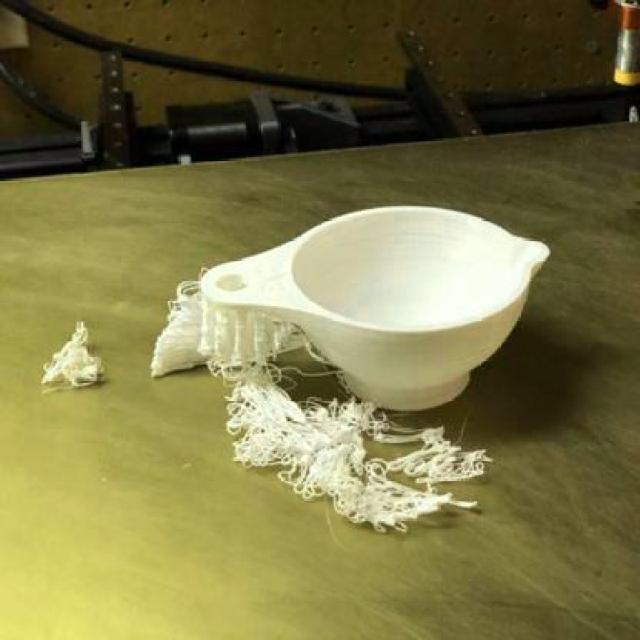Spaghetti: (278, 399, 494, 533), (208, 342, 274, 467), (42, 318, 106, 396)
